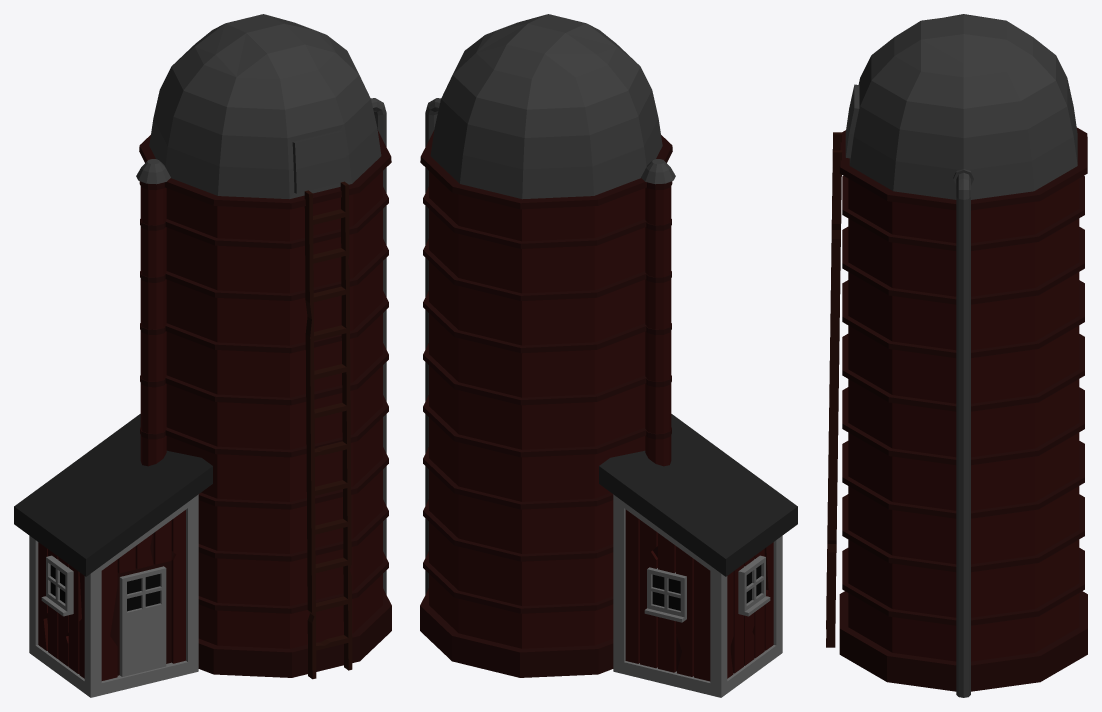
The model's file is Silo_House.glb.
3 renders of one model, left to right at view 1: azimuth 30°, elevation 25°; view 2: azimuth 150°, elevation 25°; view 3: azimuth 270°, elevation 25°, orthographic. The views are drawn at different scales.
Visible parts, largest first — view 1: world; view 2: world; view 3: world.
Boxes of the visible parts, bbox=[...] form: world: bbox=[14, 14, 391, 697]; world: bbox=[420, 14, 797, 697]; world: bbox=[826, 14, 1087, 697].
Size of the model in its own units: 5.34 by 9.07 by 3.51.
1 material, 1 textured.
